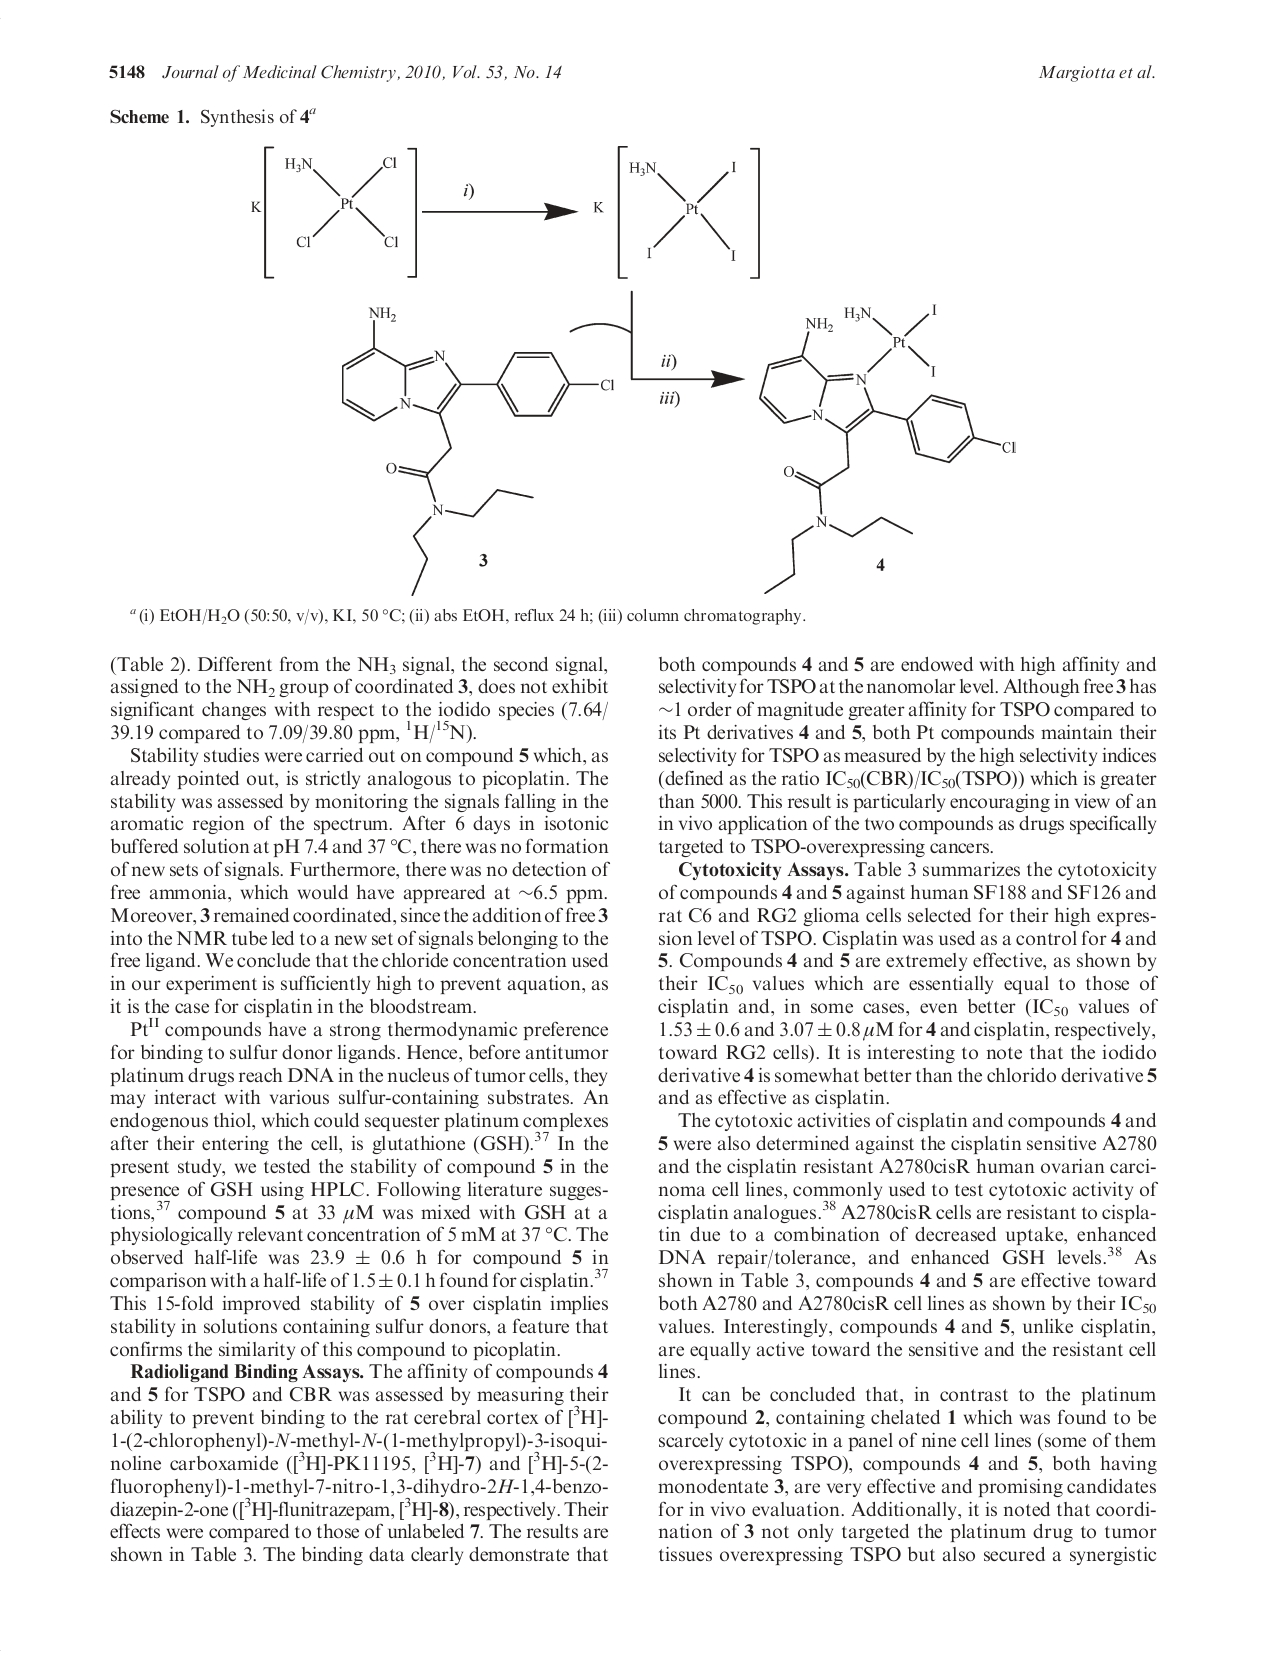exist_molecular: (336, 303, 614, 598), (761, 302, 1015, 594), (281, 148, 399, 255), (626, 156, 743, 261)
